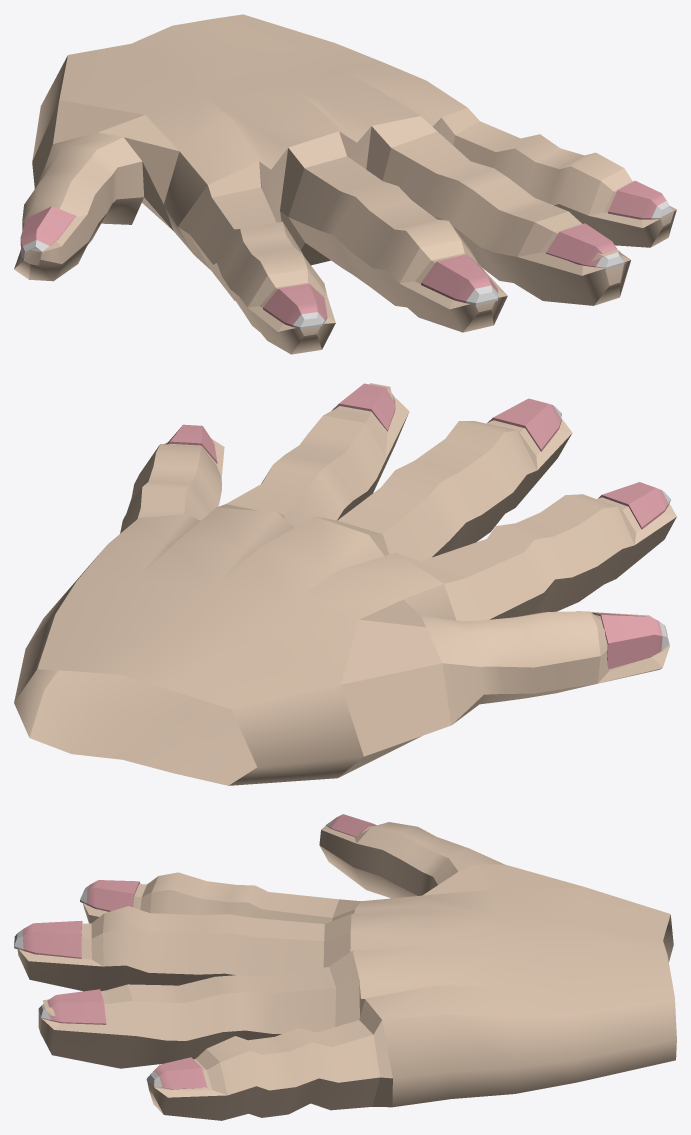
File: left_hand.fbx
The picture shows the model from 3 angles, top to bottom: view 1: azimuth 30°, elevation 25°; view 2: azimuth 150°, elevation 25°; view 3: azimuth 270°, elevation 25°; orthographic projection. The views are drawn at different scales.
Visible parts, largest first — view 1: polySurface10; view 2: polySurface10; view 3: polySurface10.
Boxes of the visible parts, x1,y1,x2,y2 form: polySurface10: (14, 14, 676, 354); polySurface10: (14, 383, 676, 785); polySurface10: (14, 814, 676, 1120).
Size of the model in its own units: 15.53 by 3.41 by 17.27.
